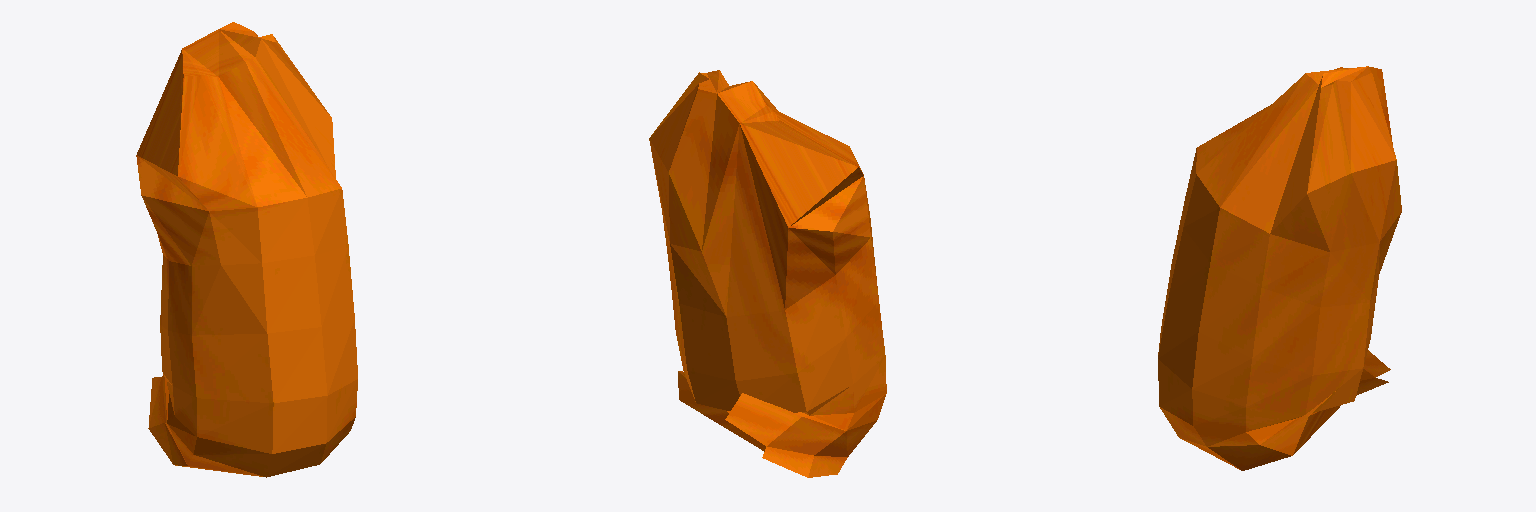
3 views of the same model, side by side, from view 1: azimuth 30°, elevation 25°; view 2: azimuth 150°, elevation 25°; view 3: azimuth 270°, elevation 25° (orthographic).
Parts seen in each view (by area): view 1: Mesh.404_DrawCall_231; view 2: Mesh.404_DrawCall_231; view 3: Mesh.404_DrawCall_231.
Boxes of the visible parts, box(x1,y1,x2,y2) form: Mesh.404_DrawCall_231: box(136, 22, 357, 477); Mesh.404_DrawCall_231: box(649, 70, 886, 477); Mesh.404_DrawCall_231: box(1158, 66, 1401, 470).
Bounding box in the file's own units: 6.47 × 13.44 × 7.62.
1 materials, 1 textured.